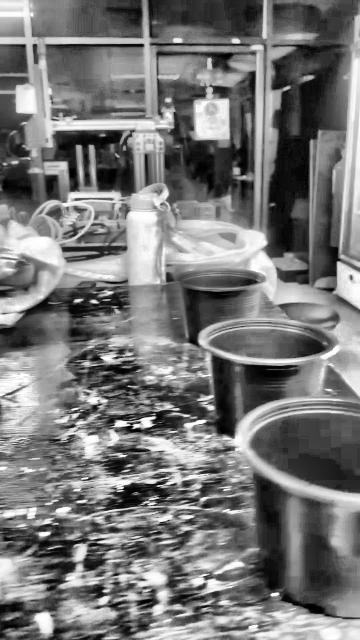pot: (247, 399, 359, 612), (199, 318, 337, 436), (177, 267, 265, 345)
